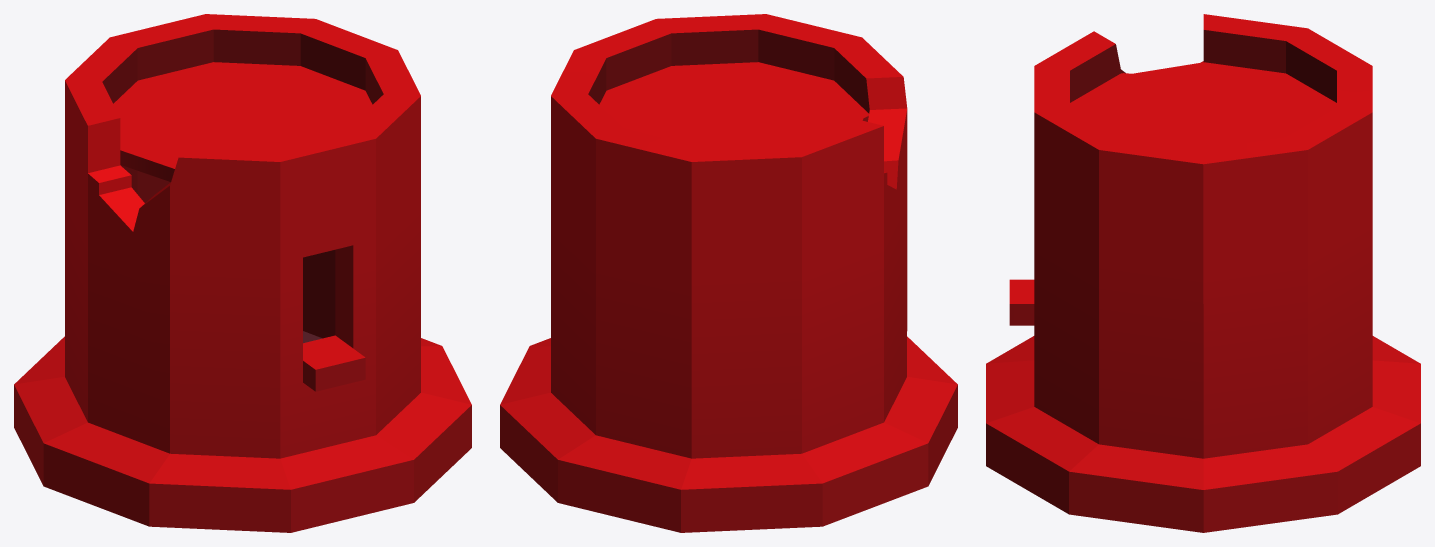
Rendered from clinder_house_A1.fbx.
3 views of the same model, side by side, from view 1: azimuth 30°, elevation 25°; view 2: azimuth 150°, elevation 25°; view 3: azimuth 270°, elevation 25° (orthographic).
Visible parts, largest first — view 1: clinder_house_A1; view 2: clinder_house_A1; view 3: clinder_house_A1.
Boxes of the visible parts, x1=… form: clinder_house_A1: x1=14, y1=14, x2=471, y2=532; clinder_house_A1: x1=500, y1=14, x2=957, y2=532; clinder_house_A1: x1=986, y1=14, x2=1420, y2=532.
Size of the model in its own units: 298 by 250 by 283.
